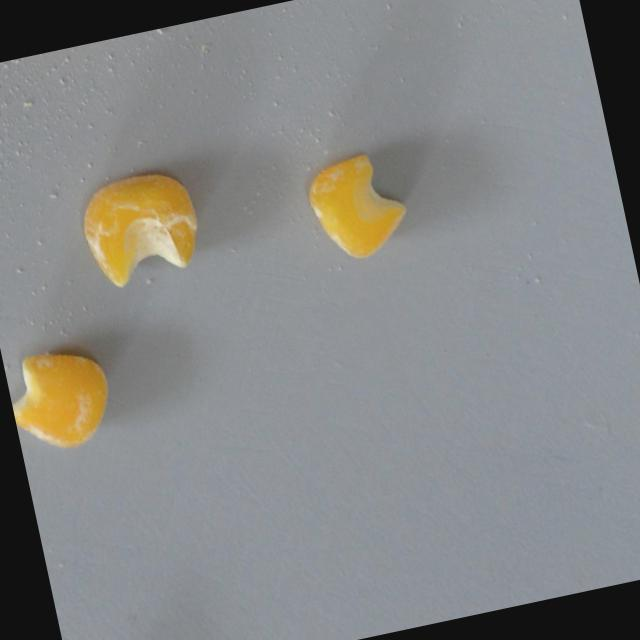pelicula: (69, 160, 213, 296), (0, 330, 121, 462), (300, 142, 416, 267)
